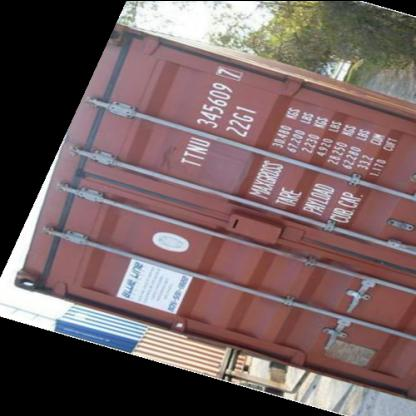Damage: (148, 138, 188, 178), (233, 159, 262, 193)
